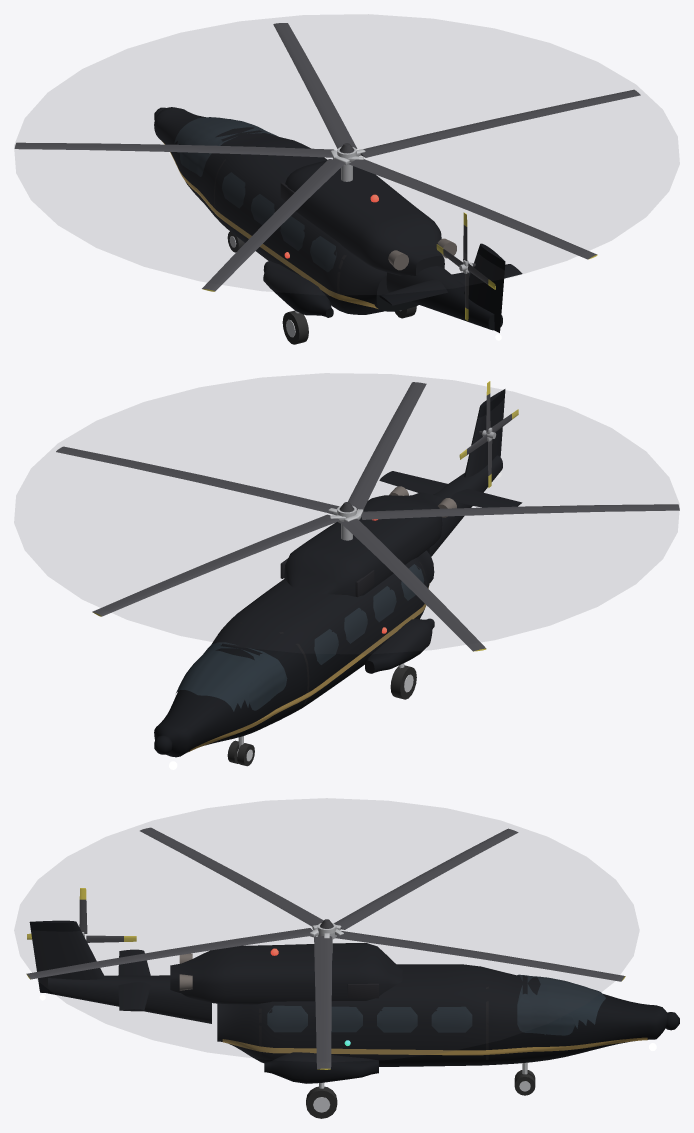
Rendered from regent.glb.
3 views of the same model, one above another, from view 1: azimuth 30°, elevation 25°; view 2: azimuth 150°, elevation 25°; view 3: azimuth 270°, elevation 25° (orthographic). The views are drawn at different scales.
Parts seen in each view (by area): view 1: RotorBlur, Body, Rotor, Gear, TailRotor; view 2: RotorBlur, Body, Rotor, Gear, TailRotor; view 3: RotorBlur, Body, Rotor, Gear, TailRotor.
Boxes of the visible parts, bbox=[...] form: RotorBlur: bbox=[14, 14, 679, 294]; Body: bbox=[154, 107, 522, 340]; Rotor: bbox=[14, 23, 640, 291]; Gear: bbox=[227, 231, 416, 344]; TailRotor: bbox=[436, 212, 495, 320]; RotorBlur: bbox=[14, 373, 679, 653]; Body: bbox=[154, 389, 522, 769]; Rotor: bbox=[56, 382, 679, 651]; Gear: bbox=[227, 663, 416, 766]; TailRotor: bbox=[459, 381, 518, 487]; RotorBlur: bbox=[14, 798, 638, 1061]; Body: bbox=[29, 920, 679, 1083]; Rotor: bbox=[26, 827, 625, 1069]; Gear: bbox=[306, 1062, 535, 1118]; TailRotor: bbox=[27, 888, 136, 942].
Size of the model in its own units: 12 by 4.2 by 12.77.
